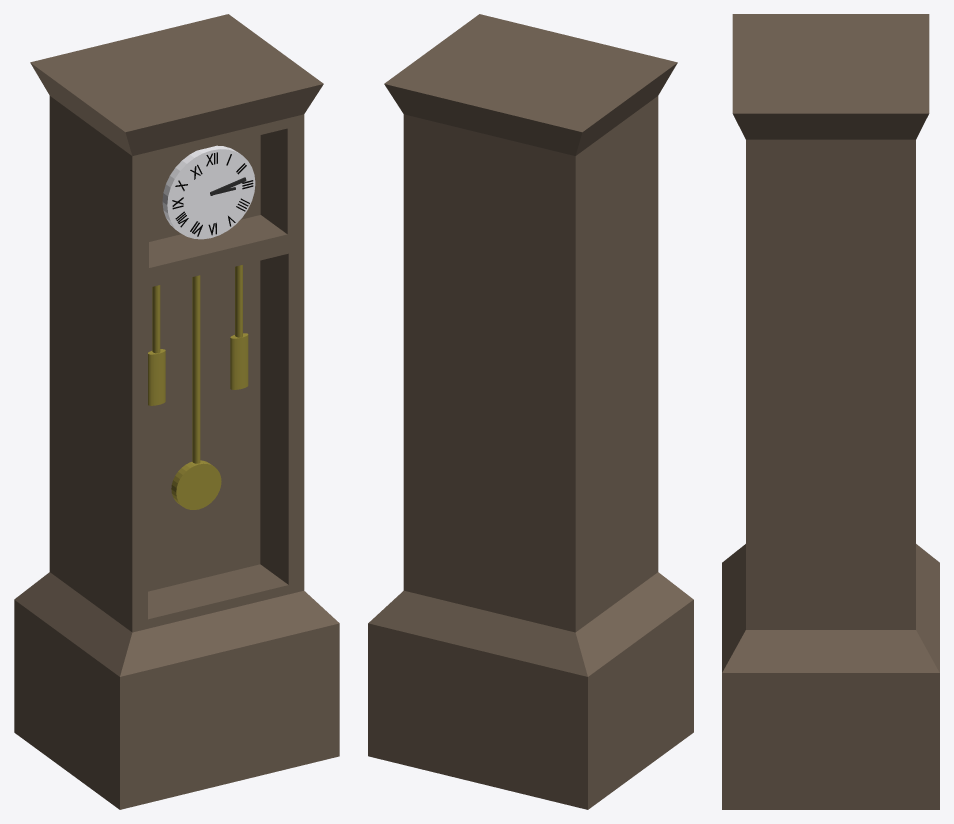
File: grandfather clock.fbx
The picture shows the model from 3 angles, left to right: view 1: azimuth 30°, elevation 25°; view 2: azimuth 150°, elevation 25°; view 3: azimuth 270°, elevation 25°; orthographic projection. The views are drawn at different scales.
Visible parts, largest first — view 1: Cube, Cylinder, Cylinder.002, Cylinder.005, Cylinder.004; view 2: Cube; view 3: Cube.
Part boxes in pixels (box(x1,y1,x2,y2)): Cube: box(14, 14, 339, 809); Cylinder: box(162, 145, 255, 239); Cylinder.002: box(171, 275, 221, 509); Cylinder.005: box(230, 265, 248, 389); Cylinder.004: box(148, 285, 165, 405); Cube: box(368, 14, 693, 809); Cube: box(722, 14, 939, 809).
Size of the model in its own units: 1.2 by 3.5 by 1.
